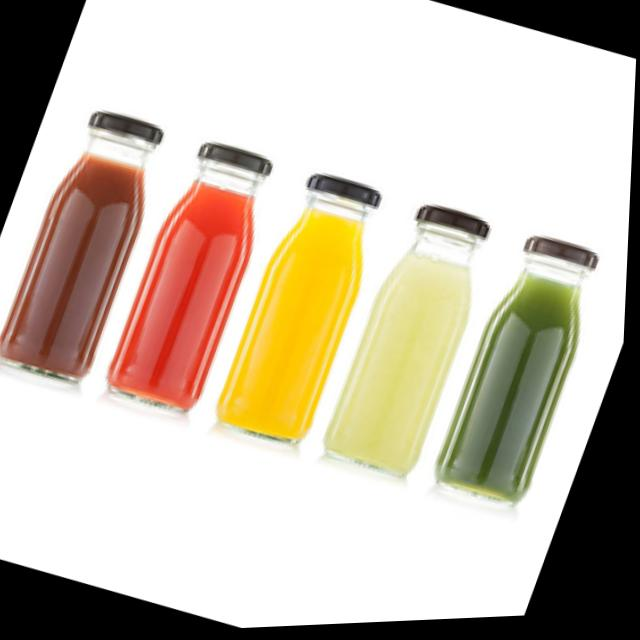glass_beverage_bottles: (424, 227, 615, 525), (102, 134, 292, 427), (323, 200, 508, 496), (213, 167, 398, 462), (0, 101, 183, 396)
